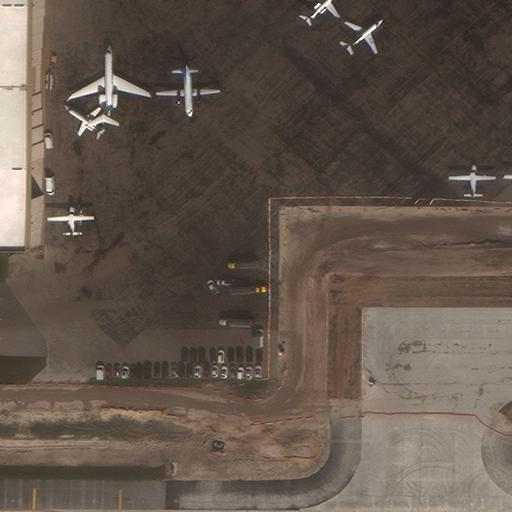Medium Civil Transport: (65, 45, 152, 126), (156, 64, 220, 118), (448, 164, 495, 199), (47, 205, 94, 237), (345, 18, 383, 53)
Small Civil Transport: (63, 105, 102, 135), (304, 0, 343, 22)
